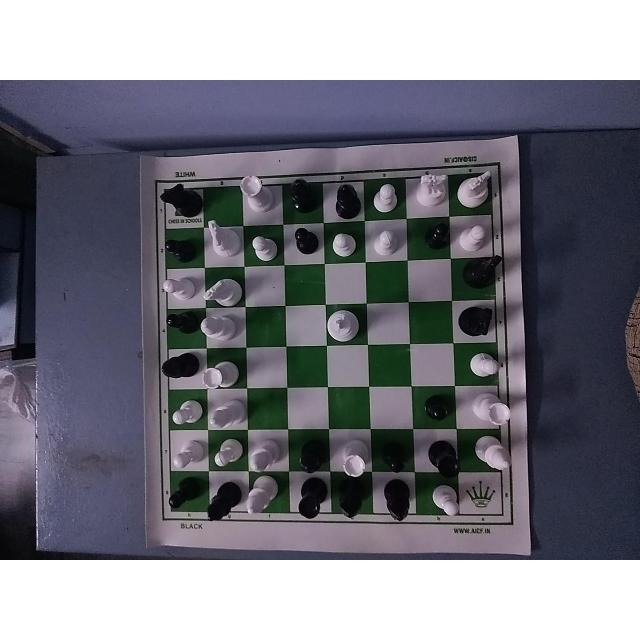black-bishop: (374, 473, 417, 525), (157, 345, 203, 392), (203, 473, 239, 523), (327, 175, 365, 221), (336, 474, 367, 525), (293, 429, 327, 475), (285, 173, 317, 217)
black-knight: (454, 250, 505, 292), (158, 179, 202, 222), (456, 302, 498, 338)
black-pawn: (163, 475, 207, 519), (418, 393, 458, 431), (161, 306, 200, 344), (284, 222, 323, 259), (161, 230, 199, 266), (417, 217, 453, 255), (379, 437, 410, 473)
black-rook: (421, 437, 463, 481), (295, 476, 328, 528)
white-bishop: (244, 432, 285, 476), (244, 476, 286, 518), (473, 433, 517, 473), (198, 309, 246, 344), (207, 392, 249, 428)
white-king: (322, 301, 367, 347)
white-knight: (200, 216, 242, 262), (199, 269, 245, 307), (456, 162, 494, 208), (415, 167, 448, 211)
white-pawn: (244, 227, 284, 267), (209, 432, 245, 473), (169, 433, 205, 474), (462, 346, 501, 383), (370, 179, 401, 223), (454, 220, 491, 256), (158, 271, 196, 305), (166, 395, 202, 430), (370, 225, 406, 259), (428, 482, 462, 518), (329, 229, 363, 263)
white-rook: (237, 170, 281, 224), (331, 434, 370, 477), (473, 394, 513, 430), (201, 357, 239, 391)
